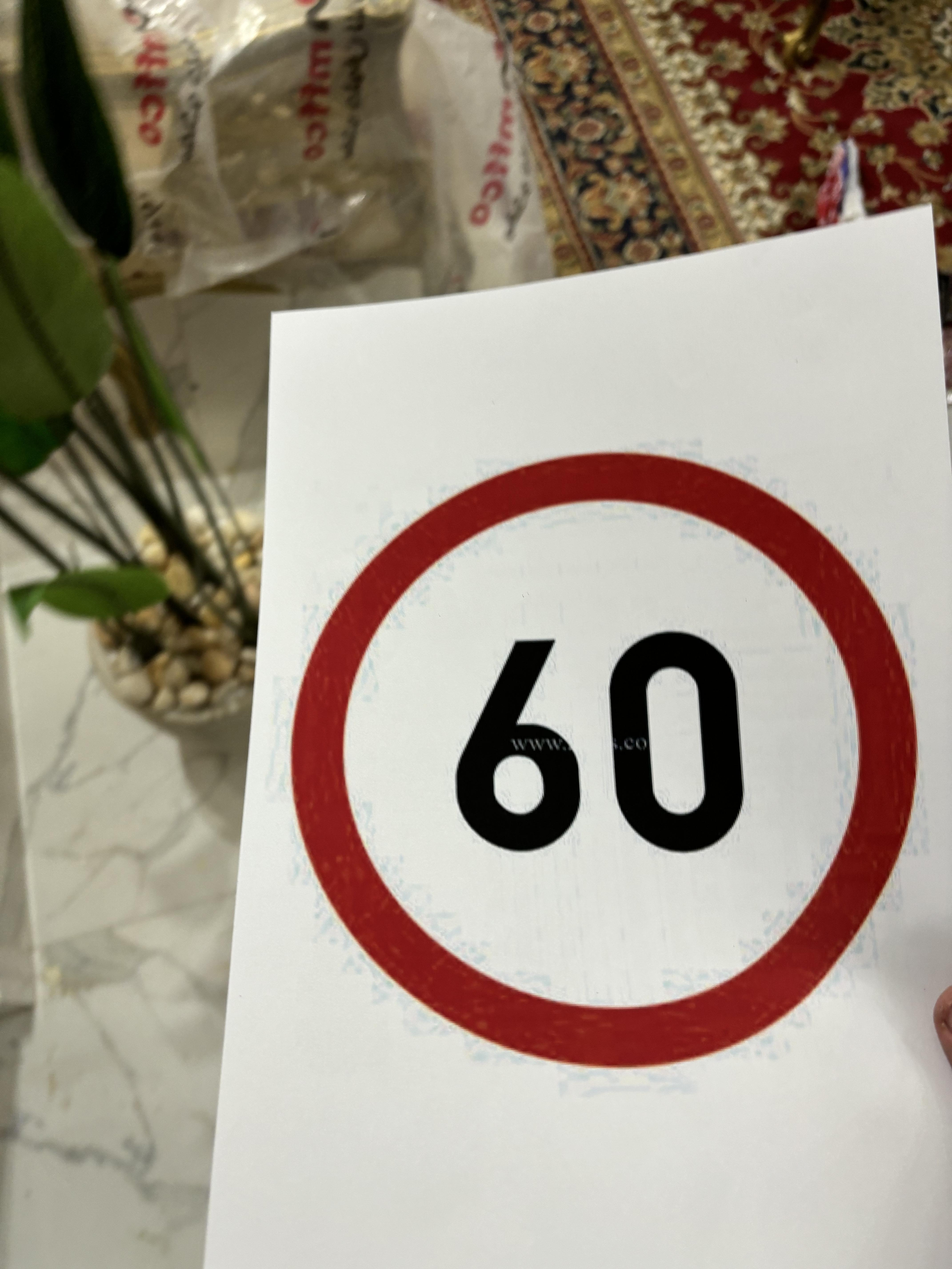60-Speed: (278, 447, 932, 1075)
